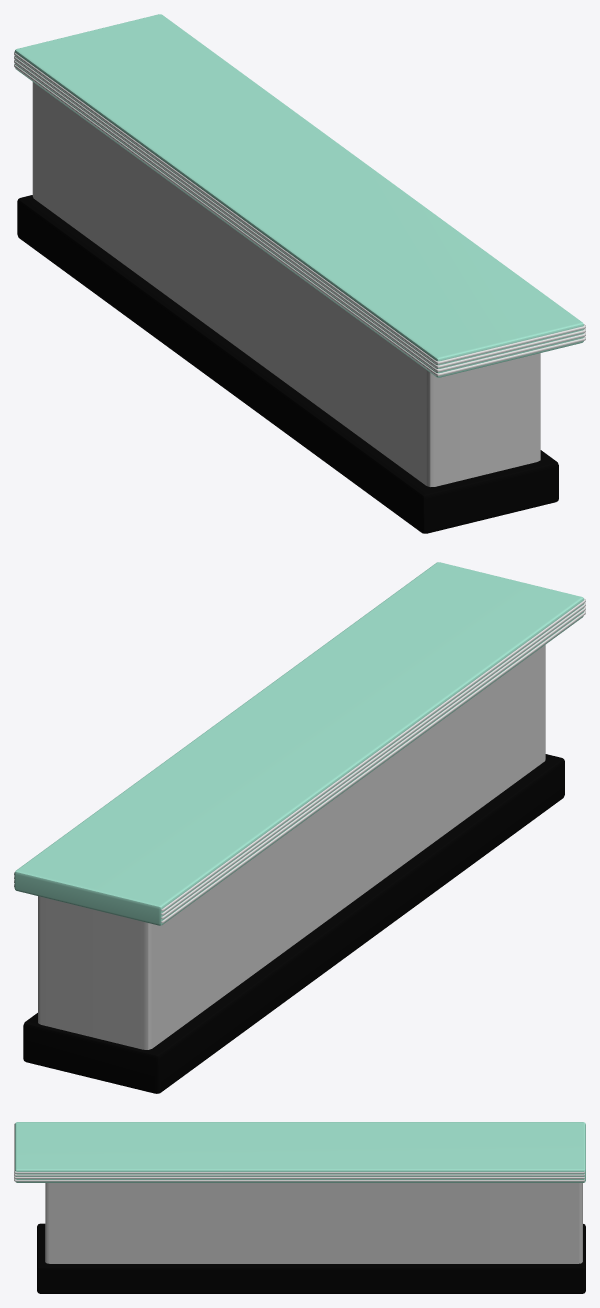
File: kitchen_bar_long_union.fbx
3 views of the same model, one above another, from view 1: azimuth 30°, elevation 25°; view 2: azimuth 150°, elevation 25°; view 3: azimuth 270°, elevation 25° (orthographic). The views are drawn at different scales.
Visible parts, largest first — view 1: pCube1; view 2: pCube1; view 3: pCube1.
Part boxes in pixels (x1,y1,x2,y2): pCube1: (14,14,585,533); pCube1: (14,562,585,1093); pCube1: (14,1122,585,1293).
Bounding box in the file's own units: 1.7 × 2.06 × 8.37.
